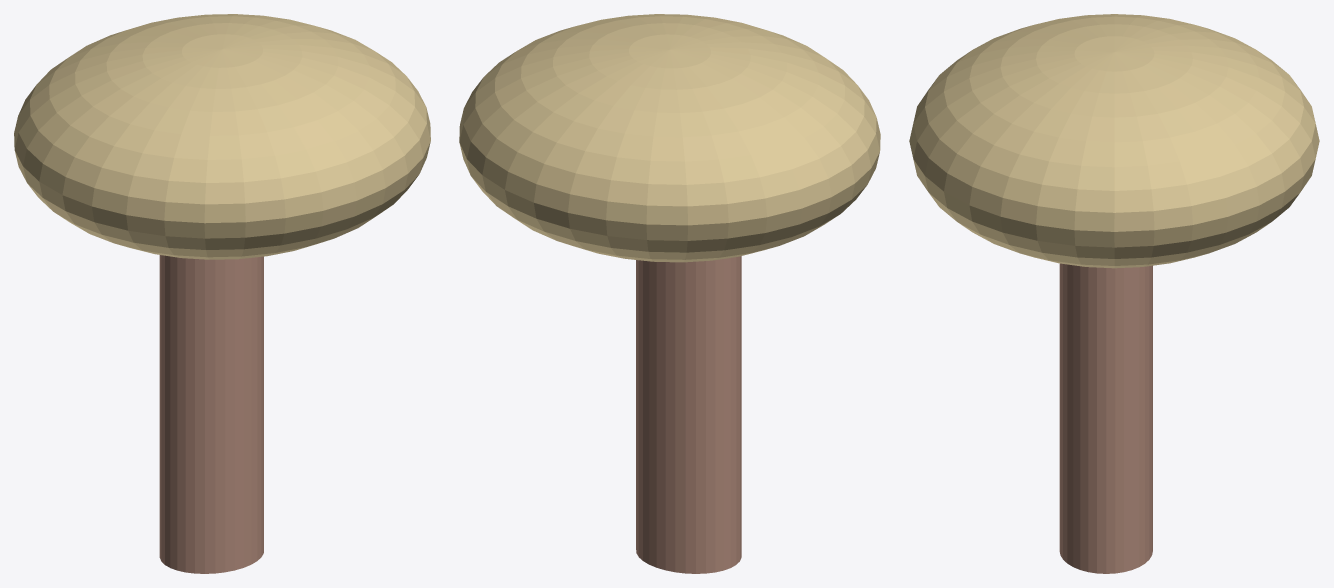
3 renders of one model, left to right at view 1: azimuth 30°, elevation 25°; view 2: azimuth 150°, elevation 25°; view 3: azimuth 270°, elevation 25°, orthographic.
Parts seen in each view (by area): view 1: 球体, 柱体; view 2: 球体, 柱体; view 3: 球体, 柱体.
Boxes of the visible parts, x1,y1,x2,y2 form: 球体: (14, 14, 430, 259); 柱体: (159, 255, 263, 573); 球体: (459, 14, 880, 262); 柱体: (636, 256, 741, 573); 球体: (909, 14, 1319, 268); 柱体: (1059, 263, 1152, 573).
Size of the model in its own units: 275 by 357 by 263.
